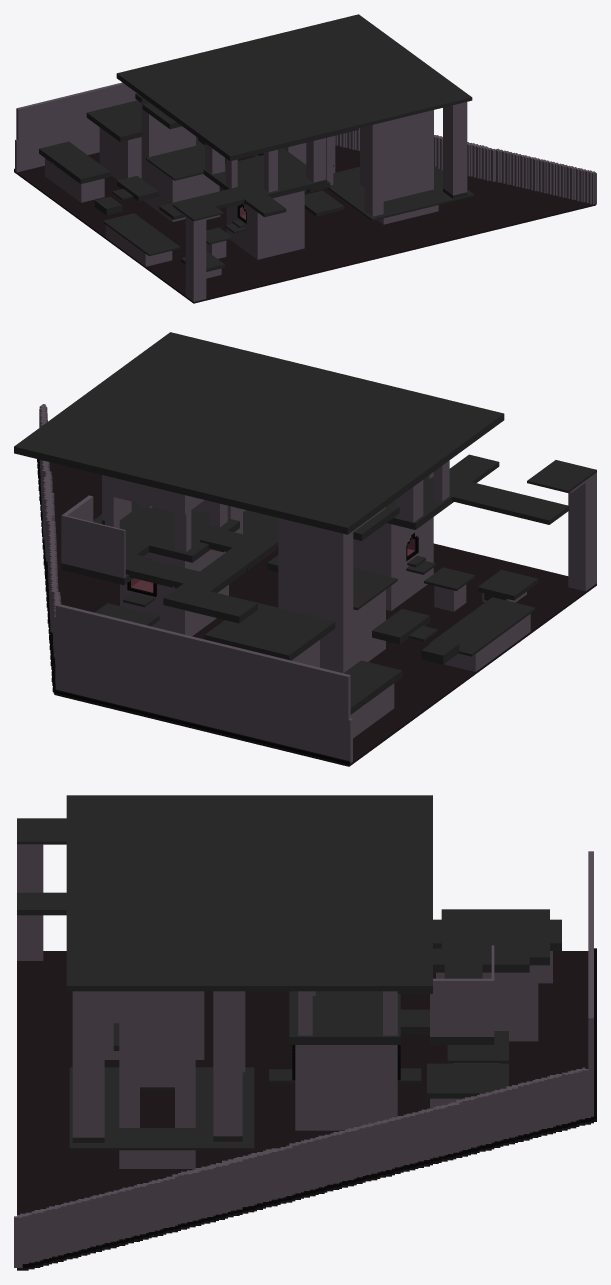
Rendered from Mapa-1.obj.
3 renders of one model, top to bottom at view 1: azimuth 30°, elevation 25°; view 2: azimuth 150°, elevation 25°; view 3: azimuth 270°, elevation 25°, orthographic. The views are drawn at different scales.
Bounding box in the file's own units: 25.6 × 7.5 × 19.9.
1 material, 1 textured.
